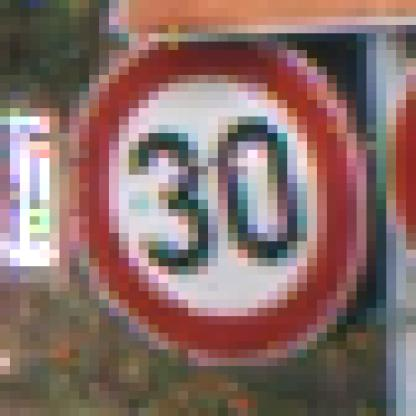Speed Limit 30: (71, 41, 359, 356)
